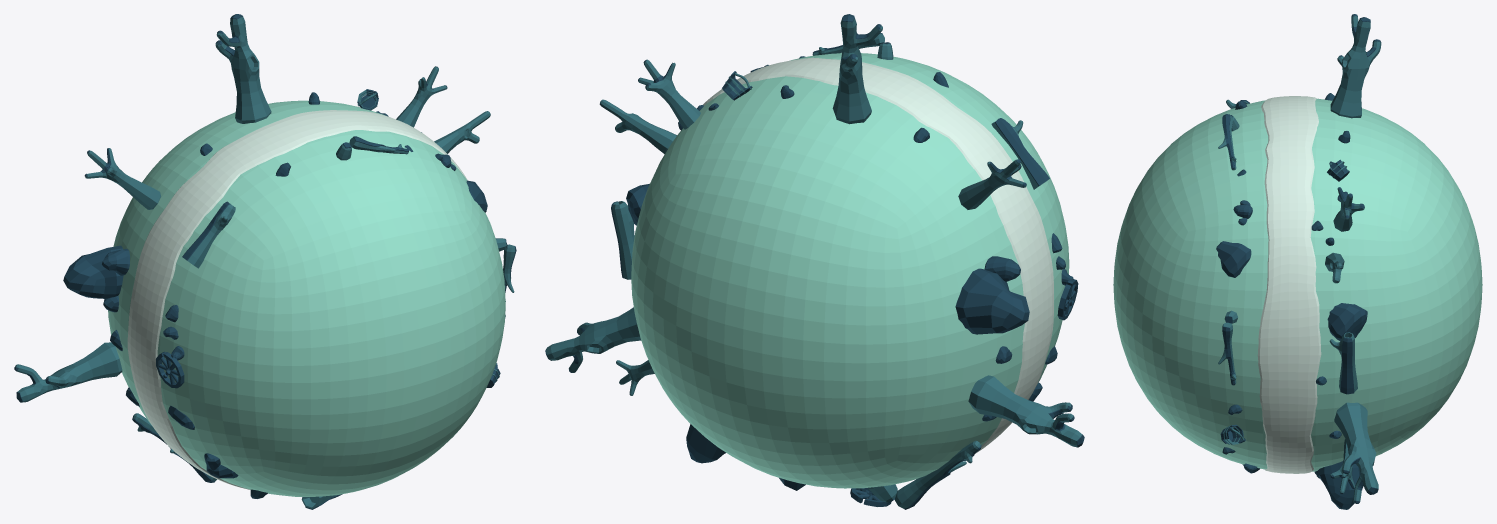
The model's file is cenario_completo.fbx.
The picture shows the model from 3 angles, left to right: view 1: azimuth 30°, elevation 25°; view 2: azimuth 150°, elevation 25°; view 3: azimuth 270°, elevation 25°; orthographic projection. The views are drawn at different scales.
Visible parts, largest first — view 1: Cube, Cube.001, Vert.002, Vert.009, Cube.009, Vert.005, Vert.001, Vert.006, Vert.008, Vert, Cylinder, Cube.010; view 2: Cube, Cube.001, Vert.009, Cube.009, Vert.002, Vert.010, Vert.012, Vert.006, Vert.005, Vert.008, Vert.001, Vert.007 (+4 smaller); view 3: Cube, Cube.001, Vert.002, Vert.010, Cube.018, Cube.031, Vert.007, Cube.023, Vert.011, Vert.006, Vert.
Boxes of the visible parts, x1,y1,x2,y2 form: Cube: (108,100,505,496); Cube.001: (127,110,467,489); Vert.002: (215,14,271,123); Vert.009: (14,342,122,402); Cube.009: (63,245,123,298); Vert.005: (84,148,160,209); Vert.001: (182,201,235,268); Vert.006: (396,66,447,127); Vert.008: (434,111,490,153); Vert: (336,136,408,160); Cylinder: (156,351,184,388); Cube.010: (102,248,129,275); Cube: (631,53,1069,488); Cube.001: (703,57,1053,453); Vert.009: (968,375,1084,447); Cube.009: (955,268,1029,334); Vert.002: (832,14,882,124); Vert.010: (545,307,641,372); Vert.012: (868,440,981,509); Vert.006: (638,59,700,129); Vert.005: (958,159,1026,209); Vert.008: (599,99,676,154); Vert.001: (991,118,1049,189); Vert.007: (611,201,634,279); Cube: (1113,98,1482,471); Cube.001: (1257,96,1321,473); Vert.002: (1330,14,1381,118); Vert.010: (1334,402,1378,503); Cube.018: (1327,303,1367,341); Cube.031: (1318,461,1360,509); Vert.007: (1329,332,1357,394); Cube.023: (1216,241,1251,277); Vert.011: (1218,310,1237,385); Vert.006: (1333,187,1364,231); Vert: (1218,114,1239,170).
Size of the model in its own units: 993 by 879 by 690.
